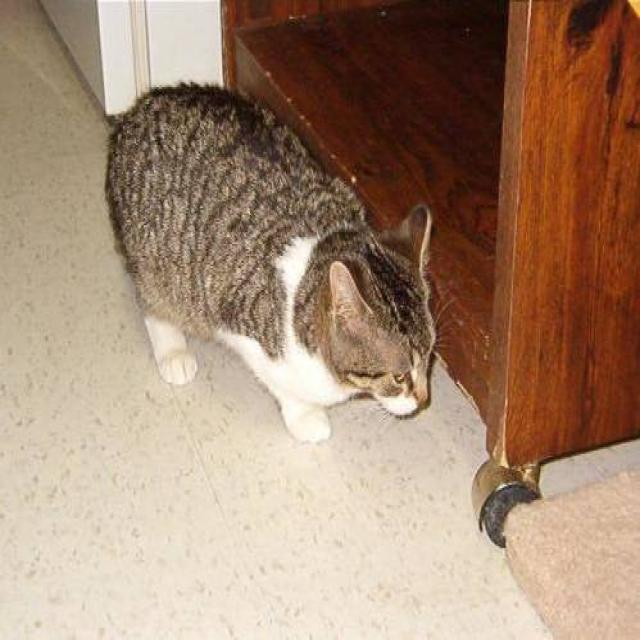cat: (103, 79, 446, 444)
